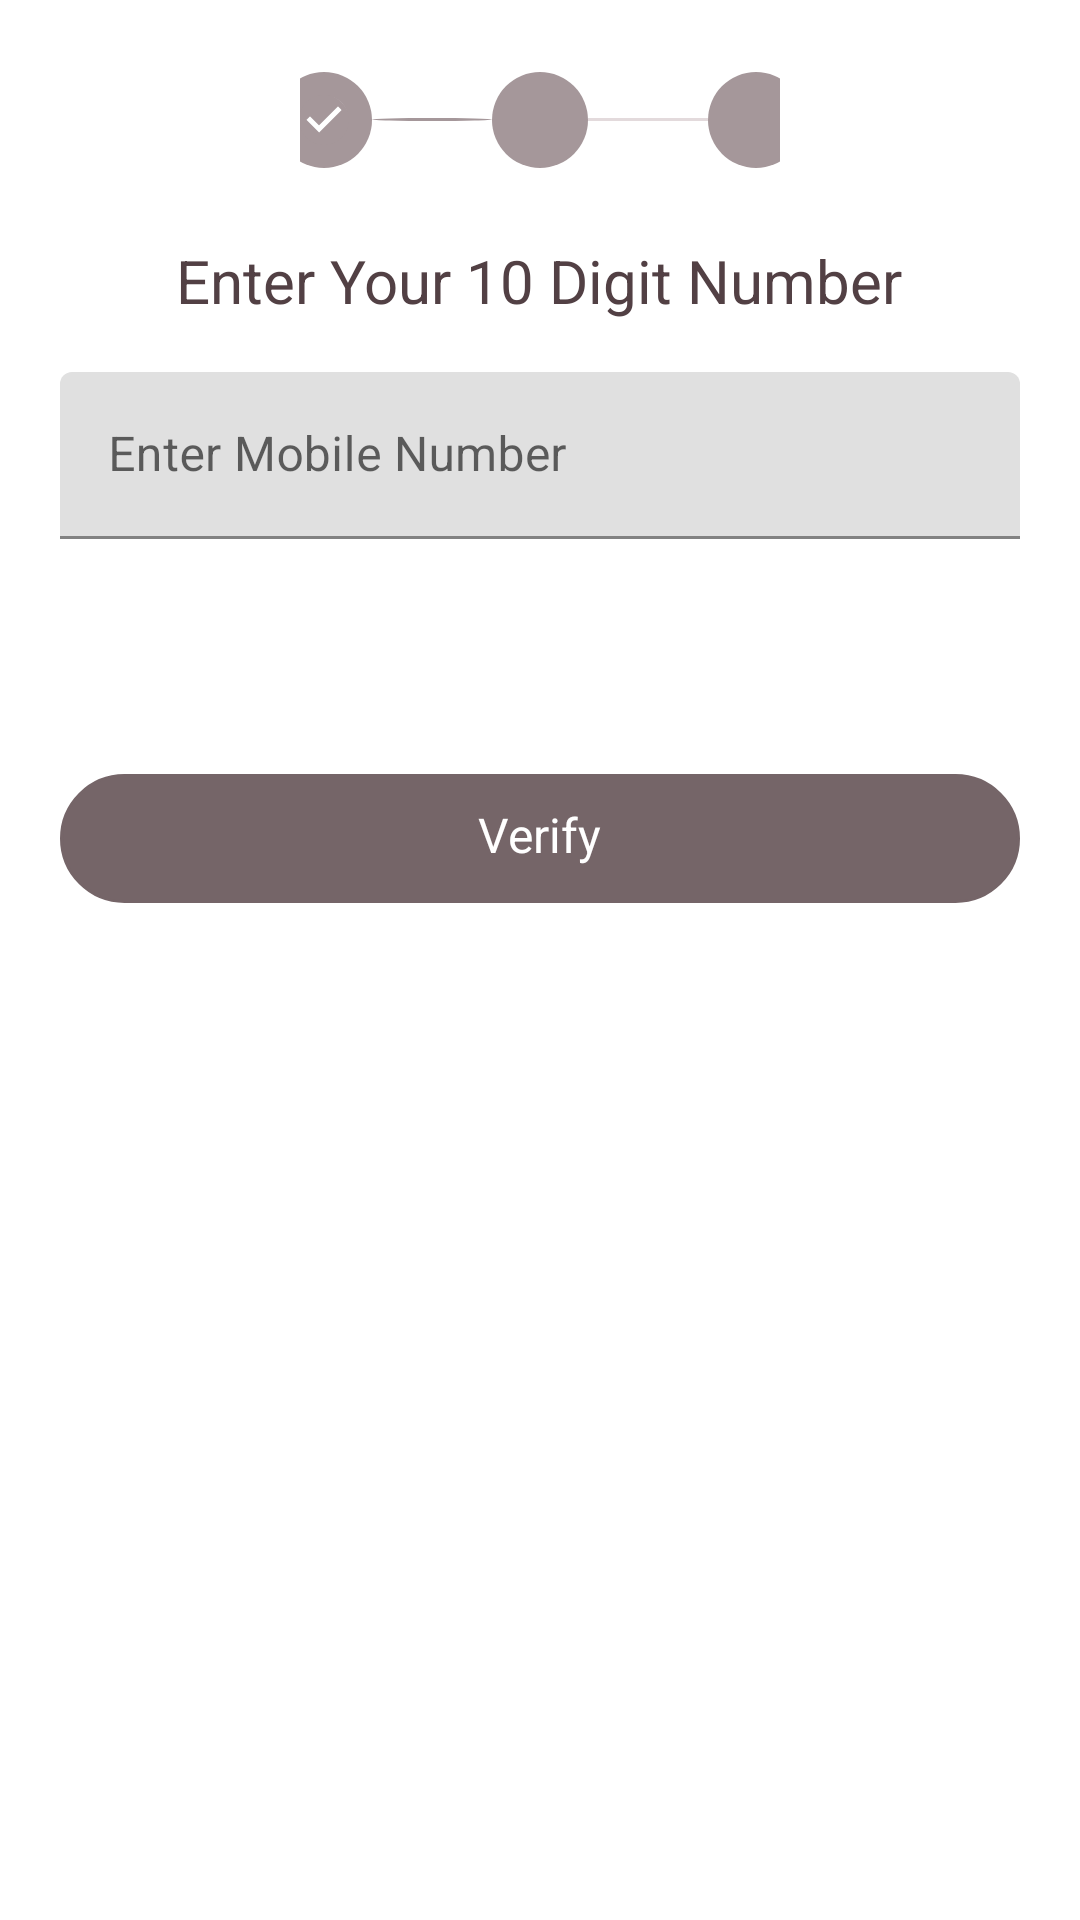

Icon bounding boxes for this 1080x1920 phone screenshot, format box=[x1, y1, x2, y2]:
tick: box=[307, 107, 341, 132]
